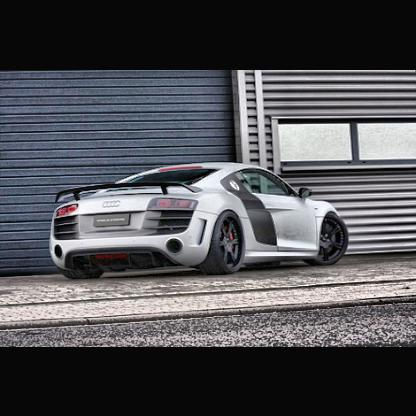Audi R8 Coupe 2012: (48, 160, 353, 276)
